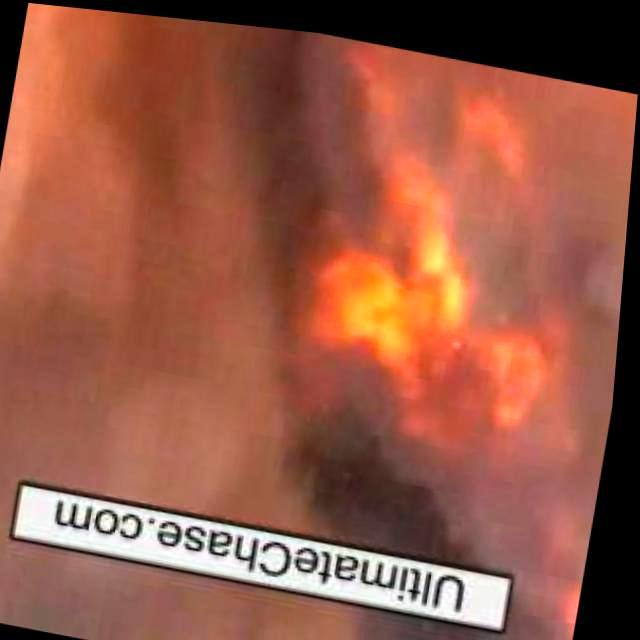fire: (242, 24, 606, 484), (546, 556, 592, 640)
